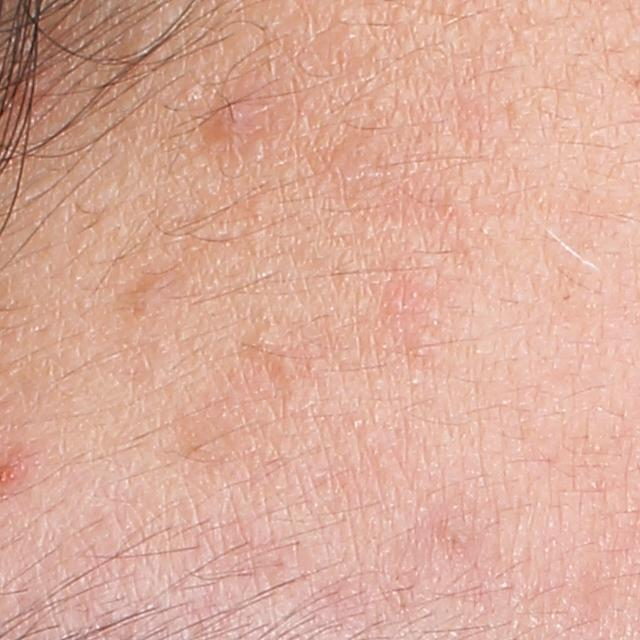comedo: (245, 190, 273, 216)
